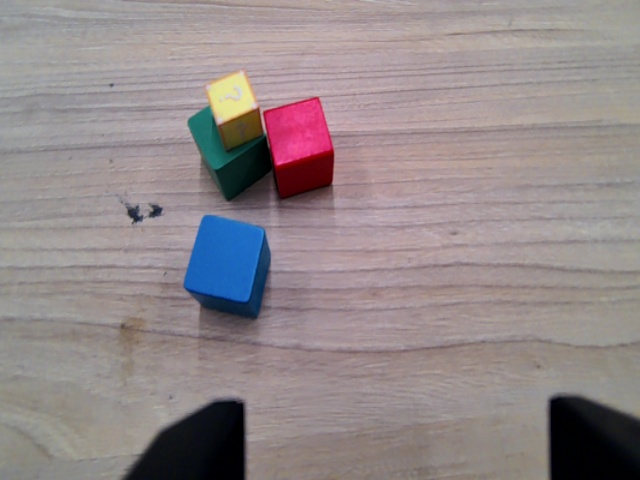lucky: (199, 65, 269, 155)
